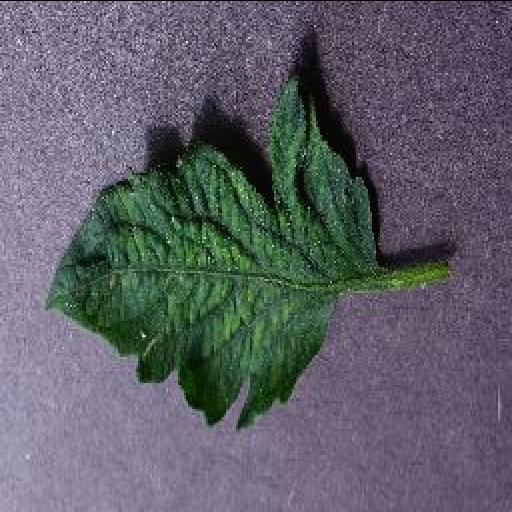disease_tomato: (44, 71, 382, 429)
